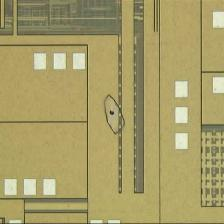PARTICLE: (101, 94, 129, 138)
